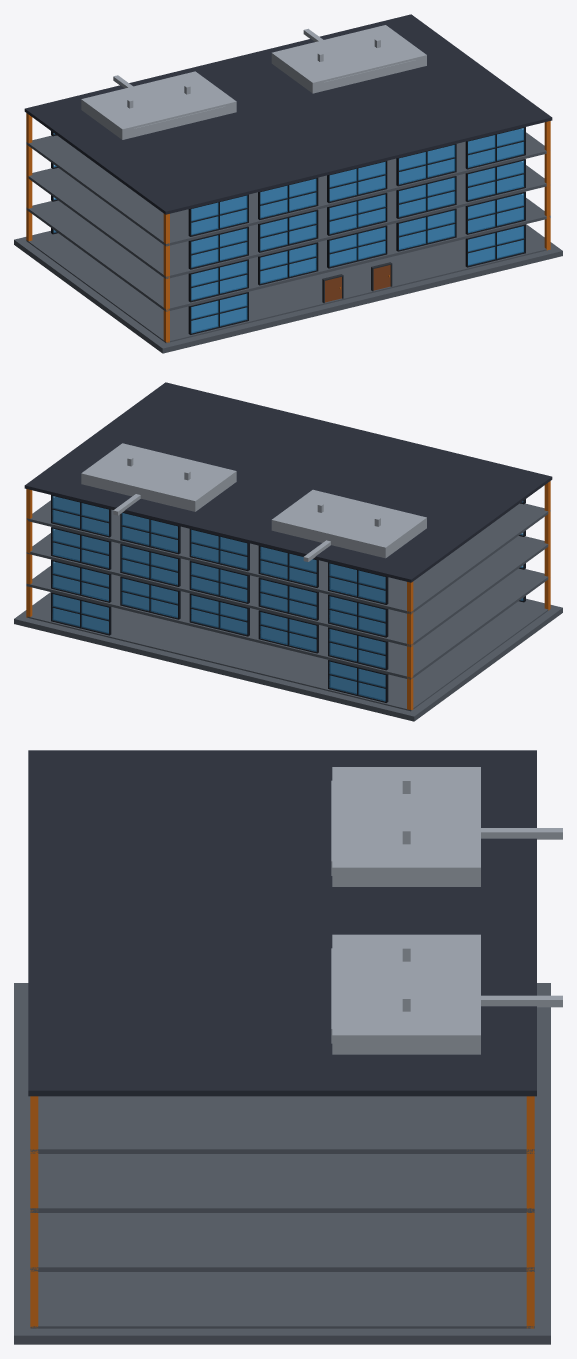
Rendered from bp_proj1_1788451013988_t2_pdf.obj.
3 renders of one model, top to bottom at view 1: azimuth 30°, elevation 25°; view 2: azimuth 150°, elevation 25°; view 3: azimuth 270°, elevation 25°, orthographic. The views are drawn at different scales.
Parts seen in each view (by area): view 1: Roof_Slab, Floor_Slab_2, Floor_Slab_3, Floor_Slab_1, Floor_Slab_4, Foundation_Slab, Roof_HVAC_1_HVAC_Unit, Roof_HVAC_2_HVAC_Unit, Tower_Win_F4_S_1_Glass, Tower_Win_F2_S_1_Glass, Tower_Win_F2_S_0_Glass, Tower_Win_F4_S_0_Glass (+15 smaller); view 2: Roof_Slab, Floor_Slab_1, Floor_Slab_2, Floor_Slab_3, Floor_Slab_4, Foundation_Slab, Roof_HVAC_2_HVAC_Unit, Roof_HVAC_1_HVAC_Unit, Tower_Win_F2_N_0_Glass, Tower_Win_F4_N_0_Glass, Tower_Win_F3_N_0_Glass, Tower_Win_F2_N_1_Glass (+13 smaller); view 3: Roof_Slab, Floor_Slab_3, Floor_Slab_2, Floor_Slab_4, Floor_Slab_1, Foundation_Slab, Roof_HVAC_2_HVAC_Unit, Roof_HVAC_1_HVAC_Unit, Roof_HVAC_2_Air_Duct, Roof_HVAC_1_Air_Duct.
Boxes of the visible parts, x1,y1,x2,y2 form: Roof_Slab: [24, 14, 552, 214]; Floor_Slab_2: [26, 194, 550, 311]; Floor_Slab_3: [28, 161, 546, 278]; Floor_Slab_1: [26, 227, 546, 343]; Floor_Slab_4: [26, 129, 546, 246]; Foundation_Slab: [14, 224, 562, 353]; Roof_HVAC_1_HVAC_Unit: [81, 71, 236, 139]; Roof_HVAC_2_HVAC_Unit: [271, 25, 426, 93]; Tower_Win_F4_S_1_Glass: [399, 145, 455, 184]; Tower_Win_F2_S_1_Glass: [399, 210, 455, 249]; Tower_Win_F2_S_0_Glass: [329, 227, 385, 266]; Tower_Win_F4_S_0_Glass: [329, 161, 385, 201]; Roof_Slab: [24, 382, 552, 582]; Floor_Slab_1: [27, 595, 548, 711]; Floor_Slab_2: [26, 562, 548, 679]; Floor_Slab_3: [26, 529, 548, 647]; Floor_Slab_4: [26, 497, 550, 614]; Foundation_Slab: [14, 592, 562, 721]; Roof_HVAC_2_HVAC_Unit: [81, 443, 236, 511]; Roof_HVAC_1_HVAC_Unit: [271, 489, 426, 558]; Tower_Win_F2_N_0_Glass: [191, 595, 247, 634]; Tower_Win_F4_N_0_Glass: [191, 529, 247, 569]; Tower_Win_F3_N_0_Glass: [191, 562, 247, 602]; Tower_Win_F2_N_1_Glass: [121, 578, 177, 617]; Roof_Slab: [28, 750, 536, 1096]; Floor_Slab_3: [30, 1154, 534, 1212]; Floor_Slab_2: [30, 1213, 534, 1271]; Floor_Slab_4: [30, 1096, 534, 1153]; Floor_Slab_1: [30, 1272, 534, 1328]; Foundation_Slab: [14, 983, 550, 1344]; Roof_HVAC_2_HVAC_Unit: [332, 934, 480, 1054]; Roof_HVAC_1_HVAC_Unit: [332, 767, 480, 886]; Roof_HVAC_2_Air_Duct: [481, 995, 562, 1007]; Roof_HVAC_1_Air_Duct: [481, 828, 562, 839].
Bounding box in the file's own units: 41 × 15.2 × 26.99.
